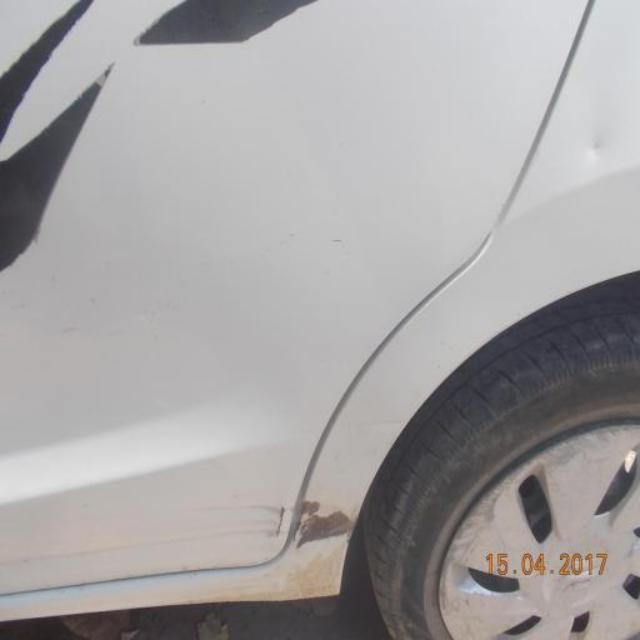crack: (301, 498, 350, 556)
dent: (577, 127, 617, 171)
scratch: (1, 498, 291, 572)
